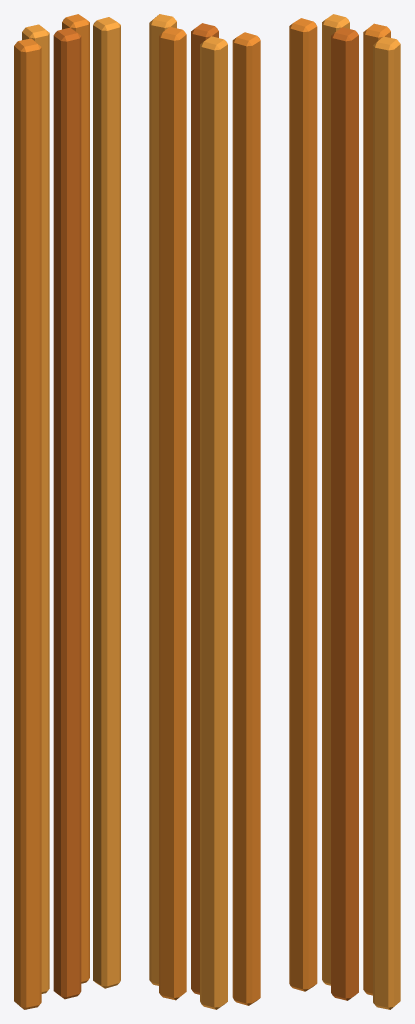
File: carrot.glb
3 views of the same model, side by side, from view 1: azimuth 30°, elevation 25°; view 2: azimuth 150°, elevation 25°; view 3: azimuth 330°, elevation 25° (orthographic).
Parts seen in each view (by area): view 1: julienne_2, julienne_4, julienne_0, julienne_1, julienne_3; view 2: julienne_0, julienne_1, julienne_3, julienne_4, julienne_2; view 3: julienne_0, julienne_2, julienne_4, julienne_3, julienne_1.
Boxes of the visible parts, x1=… form: julienne_2: x1=53, y1=27, x2=81, y2=999; julienne_4: x1=93, y1=17, x2=120, y2=988; julienne_0: x1=14, y1=38, x2=41, y2=1009; julienne_1: x1=22, y1=24, x2=49, y2=993; julienne_3: x1=62, y1=14, x2=89, y2=983; julienne_0: x1=232, y1=32, x2=260, y2=1005; julienne_1: x1=200, y1=36, x2=227, y2=1009; julienne_3: x1=159, y1=27, x2=186, y2=1000; julienne_4: x1=149, y1=14, x2=176, y2=985; julienne_2: x1=191, y1=23, x2=218, y2=994; julienne_0: x1=289, y1=18, x2=317, y2=991; julienne_2: x1=331, y1=27, x2=358, y2=1000; julienne_4: x1=373, y1=36, x2=400, y2=1009; julienne_3: x1=363, y1=23, x2=390, y2=995; julienne_1: x1=322, y1=14, x2=349, y2=985.
Bounding box in the file's own units: 0.1109 × 0.996 × 0.0467.
